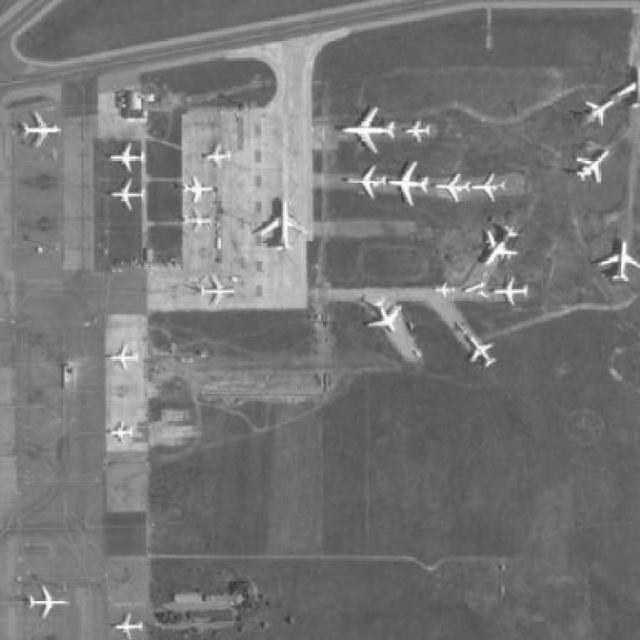airplane: (253, 196, 313, 257), (336, 105, 403, 157), (390, 160, 436, 211), (480, 225, 526, 272), (595, 237, 639, 285), (340, 163, 391, 202), (18, 110, 66, 150), (194, 272, 242, 308), (571, 146, 609, 189), (26, 583, 71, 619), (367, 297, 406, 337), (107, 179, 153, 211), (109, 141, 152, 175), (466, 334, 503, 373), (473, 171, 514, 206), (433, 171, 475, 205), (578, 96, 619, 130), (493, 275, 535, 307), (107, 341, 144, 372), (180, 173, 217, 204), (180, 208, 217, 237), (110, 611, 147, 639), (616, 72, 640, 113), (200, 145, 237, 169), (403, 121, 437, 147), (108, 423, 140, 447), (433, 280, 461, 302)
